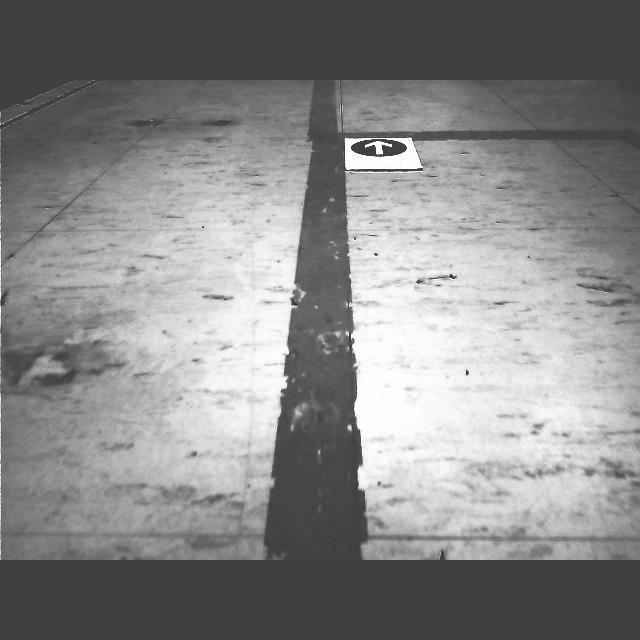GO FORWARD: (352, 139, 406, 158)
